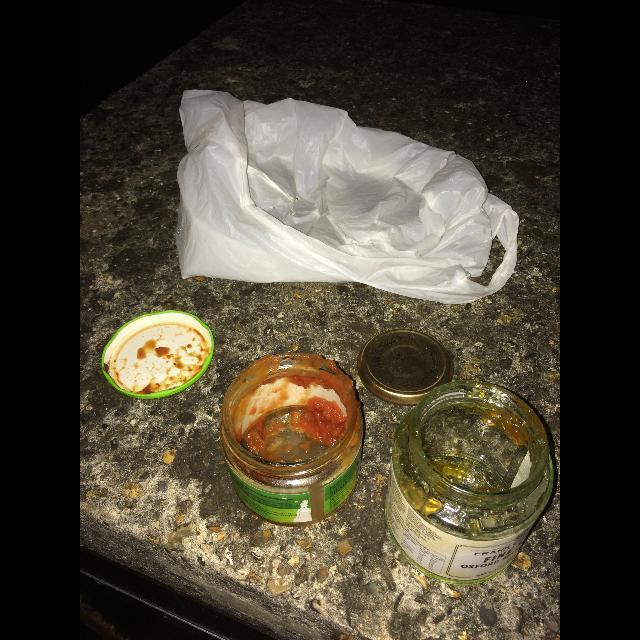Glass: (385, 380, 553, 586), (220, 352, 362, 528)
Plastic: (176, 90, 520, 304)
